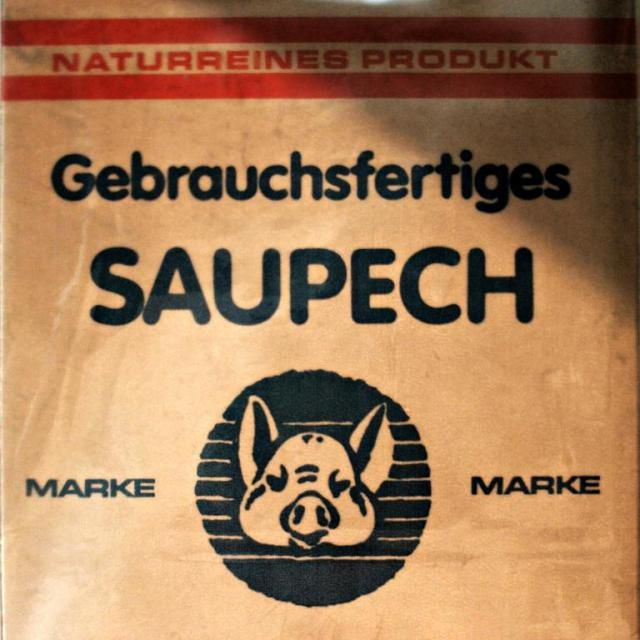Pig: (234, 394, 395, 556)
